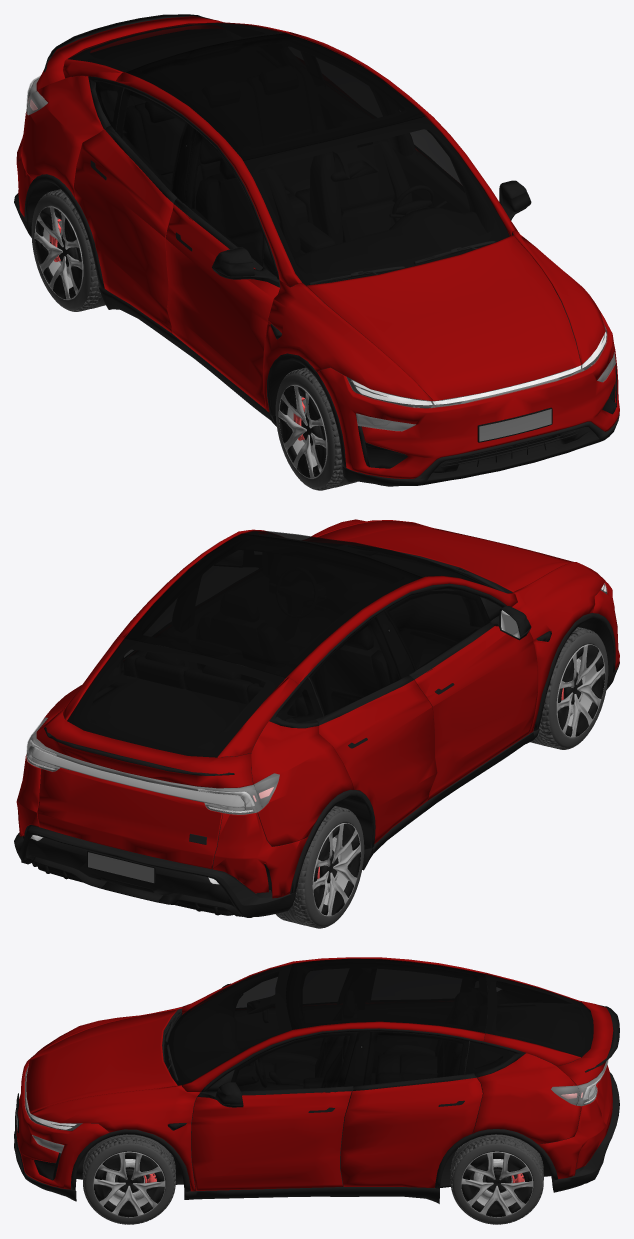
File: 2026_tesla_model_y_performance.glb
The picture shows the model from 3 angles, top to bottom: view 1: azimuth 30°, elevation 25°; view 2: azimuth 150°, elevation 25°; view 3: azimuth 270°, elevation 25°; orthographic projection. The views are drawn at different scales.
Parts seen in each view (by area): view 1: Object_5, Object_33, Object_9, Object_3, Object_38, Object_19, Object_17, Object_32, Object_10, Object_7, Object_39, Object_13 (+1 smaller); view 2: Object_5, Object_33, Object_9, Object_3, Object_38, Object_19, Object_17, Object_39, Object_32, Object_4, Object_13, Object_8; view 3: Object_5, Object_33, Object_9, Object_3, Object_19, Object_38, Object_17, Object_32, Object_39, Object_8, Object_14, Object_10.
Boxes of the visible parts, x1,y1,x2,y2 form: Object_5: [16, 16, 619, 478]; Object_33: [14, 23, 619, 486]; Object_9: [68, 22, 509, 285]; Object_3: [126, 33, 424, 160]; Object_38: [44, 14, 617, 484]; Object_19: [31, 189, 357, 490]; Object_17: [27, 76, 327, 478]; Object_32: [27, 124, 613, 441]; Object_10: [346, 325, 607, 407]; Object_7: [352, 332, 606, 405]; Object_39: [26, 75, 615, 431]; Object_13: [479, 409, 551, 441]; Object_5: [16, 519, 619, 898]; Object_33: [14, 531, 619, 917]; Object_9: [67, 530, 489, 757]; Object_3: [125, 533, 422, 677]; Object_38: [32, 583, 575, 916]; Object_19: [275, 627, 608, 928]; Object_17: [27, 630, 605, 916]; Object_39: [26, 717, 279, 814]; Object_32: [40, 584, 613, 891]; Object_4: [31, 747, 244, 807]; Object_13: [88, 852, 154, 882]; Object_8: [375, 611, 415, 678]; Object_5: [16, 957, 613, 1191]; Object_33: [15, 965, 619, 1217]; Object_9: [164, 964, 593, 1091]; Object_3: [286, 958, 487, 1032]; Object_19: [82, 1134, 543, 1224]; Object_38: [14, 965, 619, 1183]; Object_17: [93, 1046, 603, 1217]; Object_32: [25, 1032, 580, 1193]; Object_39: [32, 1059, 608, 1152]; Object_8: [343, 1032, 371, 1086]; Object_14: [106, 1159, 512, 1200]; Object_10: [24, 1066, 81, 1130].
Bounding box in the file's own units: 2.12 × 1.65 × 4.78.
Materials: 22 (1 with a texture image).
